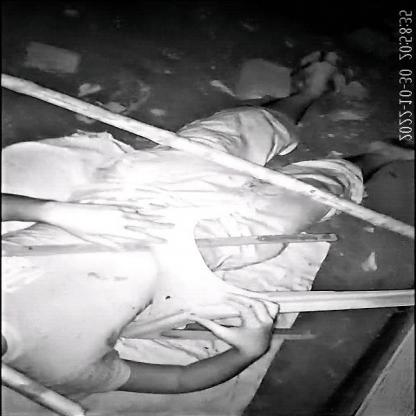hand: (0, 41, 416, 398), (132, 280, 288, 403), (3, 178, 180, 260)
leg: (258, 42, 353, 123), (344, 129, 416, 189)
